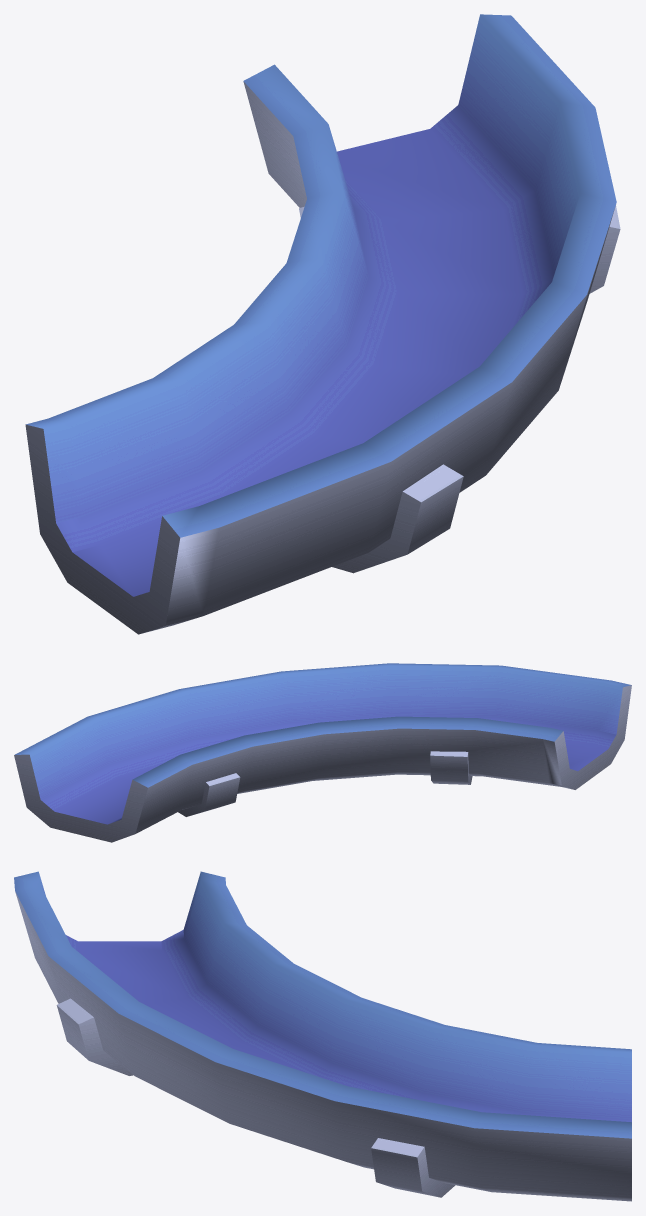
File: coaster-flume-corner-small.glb
The picture shows the model from 3 angles, top to bottom: view 1: azimuth 30°, elevation 25°; view 2: azimuth 150°, elevation 25°; view 3: azimuth 270°, elevation 25°; orthographic projection. The views are drawn at different scales.
Visible parts, largest first — view 1: coaster-flume-corner-small; view 2: coaster-flume-corner-small; view 3: coaster-flume-corner-small.
Boxes of the visible parts, bbox=[...] form: coaster-flume-corner-small: bbox=[25, 14, 620, 634]; coaster-flume-corner-small: bbox=[14, 663, 631, 842]; coaster-flume-corner-small: bbox=[14, 871, 631, 1201].
Bounding box in the file's own units: 7.24 × 1.35 × 7.24.
Materials: 1 (1 with a texture image).
